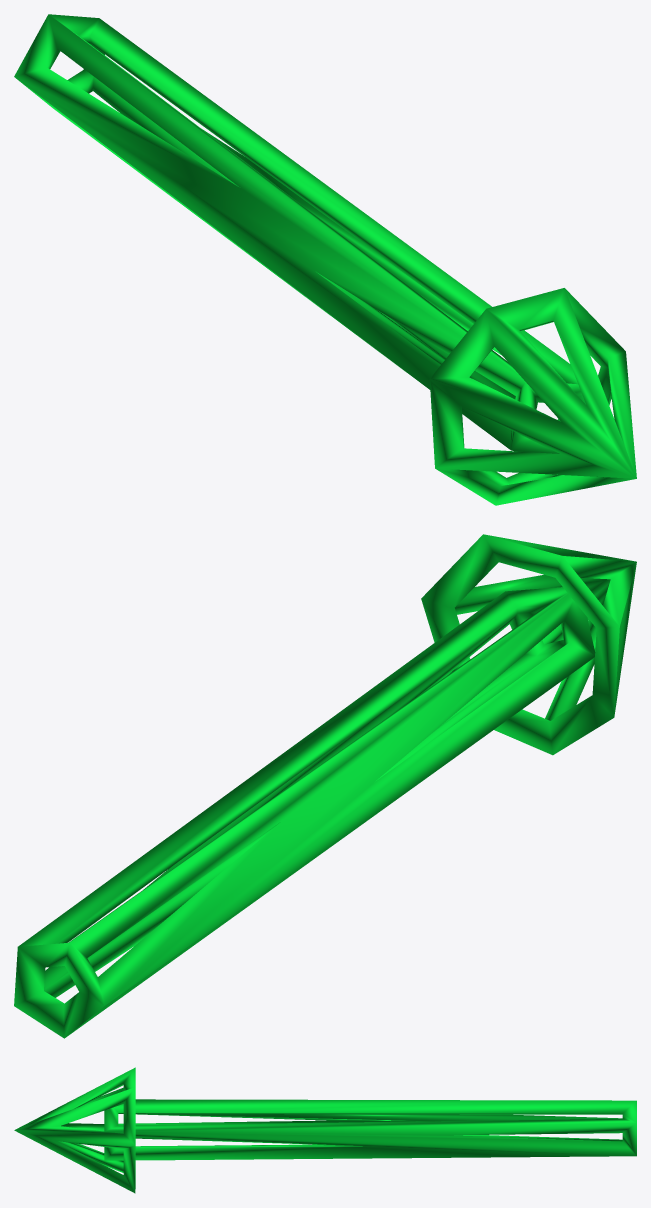
File: gizmo_y.glb
3 views of the same model, one above another, from view 1: azimuth 30°, elevation 25°; view 2: azimuth 150°, elevation 25°; view 3: azimuth 270°, elevation 25° (orthographic). The views are drawn at different scales.
Visible parts, largest first — view 1: z.002; view 2: z.002; view 3: z.002.
Part boxes in pixels (bbox=[...]): z.002: bbox=[14, 14, 636, 505]; z.002: bbox=[14, 534, 636, 1038]; z.002: bbox=[14, 1067, 636, 1193].
Bounding box in the file's own units: 0.2417 × 0.237 × 1.23.
